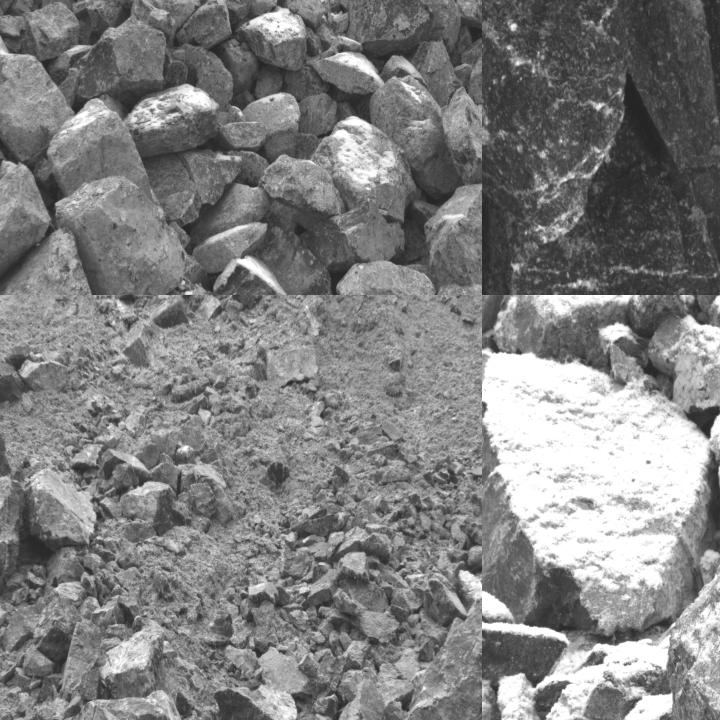stone: (482, 346, 715, 639), (485, 122, 719, 294), (482, 0, 627, 241), (618, 0, 719, 171), (54, 174, 187, 294), (405, 531, 481, 719), (49, 98, 159, 204), (370, 74, 462, 198), (313, 117, 415, 223), (0, 54, 75, 166), (79, 15, 166, 109), (300, 201, 405, 274), (124, 83, 219, 157), (0, 228, 100, 294), (260, 153, 345, 229), (0, 161, 52, 285), (482, 615, 570, 686), (2, 581, 87, 653), (22, 470, 97, 550), (425, 182, 481, 288), (101, 616, 165, 698), (348, 0, 435, 58), (334, 260, 481, 294), (440, 88, 481, 202), (238, 7, 306, 72), (672, 325, 719, 415), (172, 44, 232, 113), (61, 619, 109, 704), (192, 221, 268, 273), (118, 483, 194, 531), (180, 150, 245, 206), (67, 689, 187, 719), (241, 92, 303, 149), (259, 648, 321, 702), (24, 3, 81, 59), (312, 51, 384, 94), (625, 295, 698, 337), (34, 601, 80, 665), (212, 256, 289, 294), (176, 0, 233, 51), (216, 685, 299, 719), (115, 0, 202, 30), (0, 476, 24, 582), (344, 668, 393, 719), (423, 577, 470, 623), (101, 448, 155, 488), (359, 602, 408, 644), (20, 362, 70, 396), (342, 578, 388, 610), (307, 568, 340, 607), (286, 0, 327, 31), (219, 121, 265, 148), (22, 643, 56, 678), (151, 459, 182, 497), (278, 541, 310, 577), (290, 514, 340, 537), (482, 295, 507, 339), (378, 678, 418, 704), (338, 551, 370, 580), (457, 569, 481, 607), (188, 483, 216, 515), (334, 588, 366, 616), (390, 588, 424, 613), (117, 594, 142, 624), (249, 581, 279, 606), (338, 669, 360, 700), (0, 20, 11, 73), (326, 531, 344, 560), (469, 545, 481, 569), (0, 608, 8, 630)
